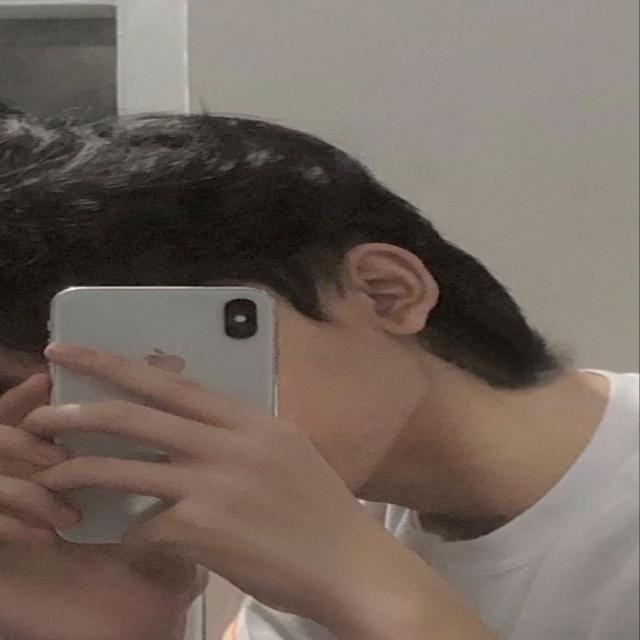phone: (49, 285, 277, 544)
